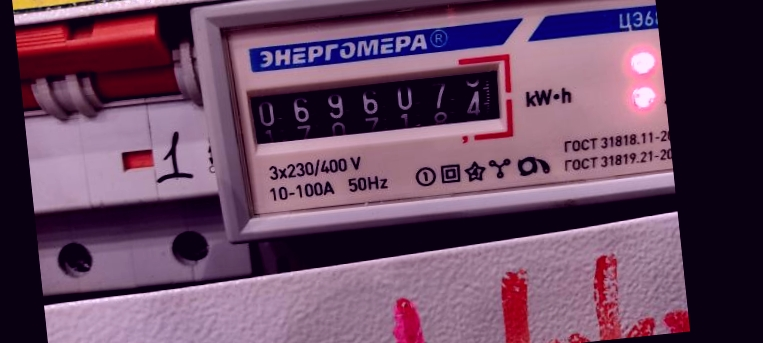0: (393, 80, 415, 112), (255, 98, 276, 128)
4: (463, 88, 482, 118)
6: (358, 86, 380, 117), (289, 93, 311, 123)
7: (429, 79, 449, 110)
9: (324, 91, 344, 120)
screen: (230, 46, 523, 164)
